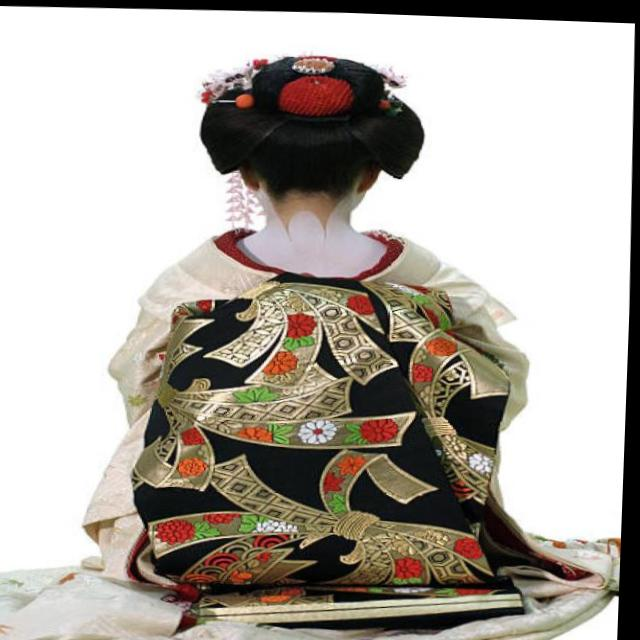no helmet: (186, 50, 439, 224)
